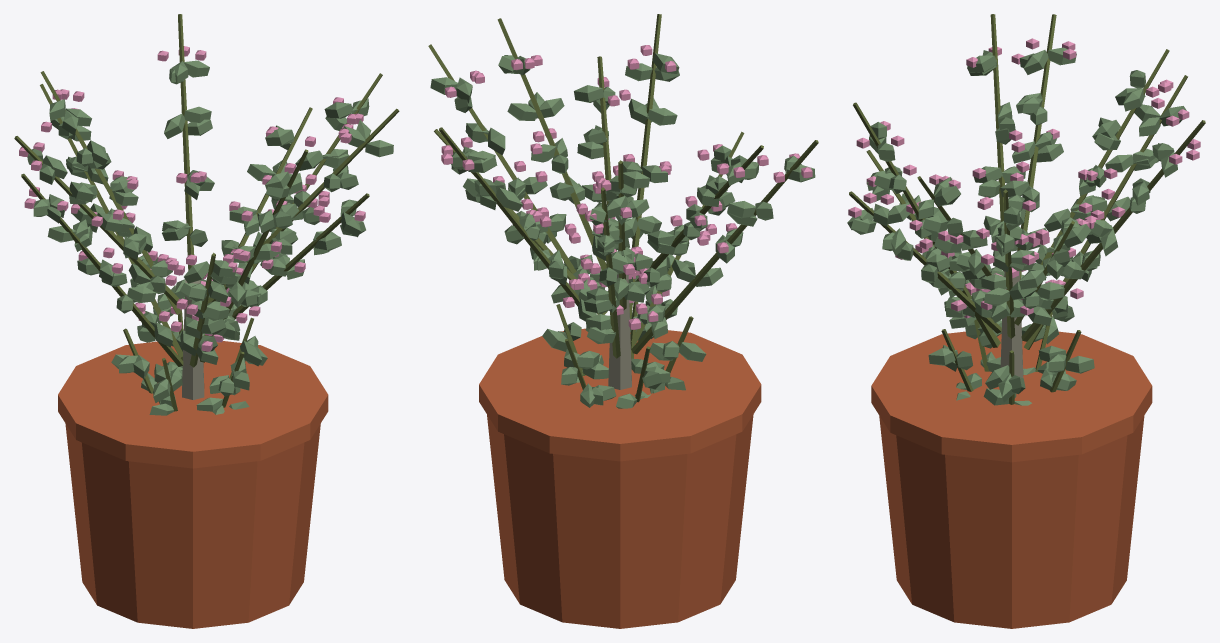
Rendered from geraldton_wax.glb.
3 views of the same model, side by side, from view 1: azimuth 30°, elevation 25°; view 2: azimuth 150°, elevation 25°; view 3: azimuth 270°, elevation 25° (orthographic). The views are drawn at different scales.
Visible parts, largest first — view 1: Stage_3, Stage_2; view 2: Stage_3, Stage_2; view 3: Stage_3, Stage_2.
Part boxes in pixels (x1=…): Stage_3: x1=14, y1=14, x2=399, y2=628; Stage_2: x1=111, y1=309, x2=267, y2=415; Stage_3: x1=428, y1=14, x2=818, y2=628; Stage_2: x1=542, y1=301, x2=706, y2=408; Stage_3: x1=847, y1=14, x2=1205, y2=628; Stage_2: x1=928, y1=312, x2=1094, y2=405.
Bounding box in the file's own units: 0.575 × 0.7194 × 0.4675.
